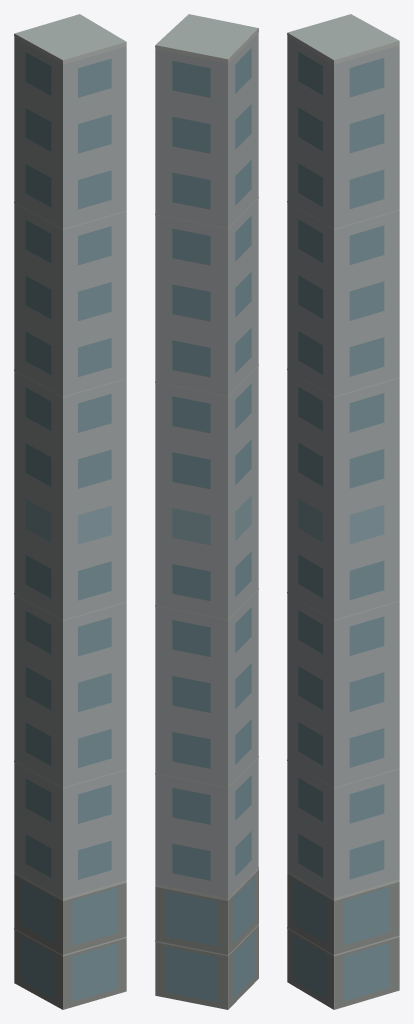
Rendered from survey-upis-32659397.glb.
The picture shows the model from 3 angles, left to right: view 1: azimuth 90°, elevation 25°; view 2: azimuth 210°, elevation 25°; view 3: azimuth 270°, elevation 25°; orthographic projection.
Parts seen in each view (by area): view 1: survey-upis-32659397.tmp; view 2: survey-upis-32659397.tmp; view 3: survey-upis-32659397.tmp.
Boxes of the visible parts, <box> form: survey-upis-32659397.tmp: <box>14,14,126,1009</box>; survey-upis-32659397.tmp: <box>155,14,258,1009</box>; survey-upis-32659397.tmp: <box>287,14,399,1009</box>.
Bounding box in the file's own units: 5.45 × 51.85 × 5.58.
